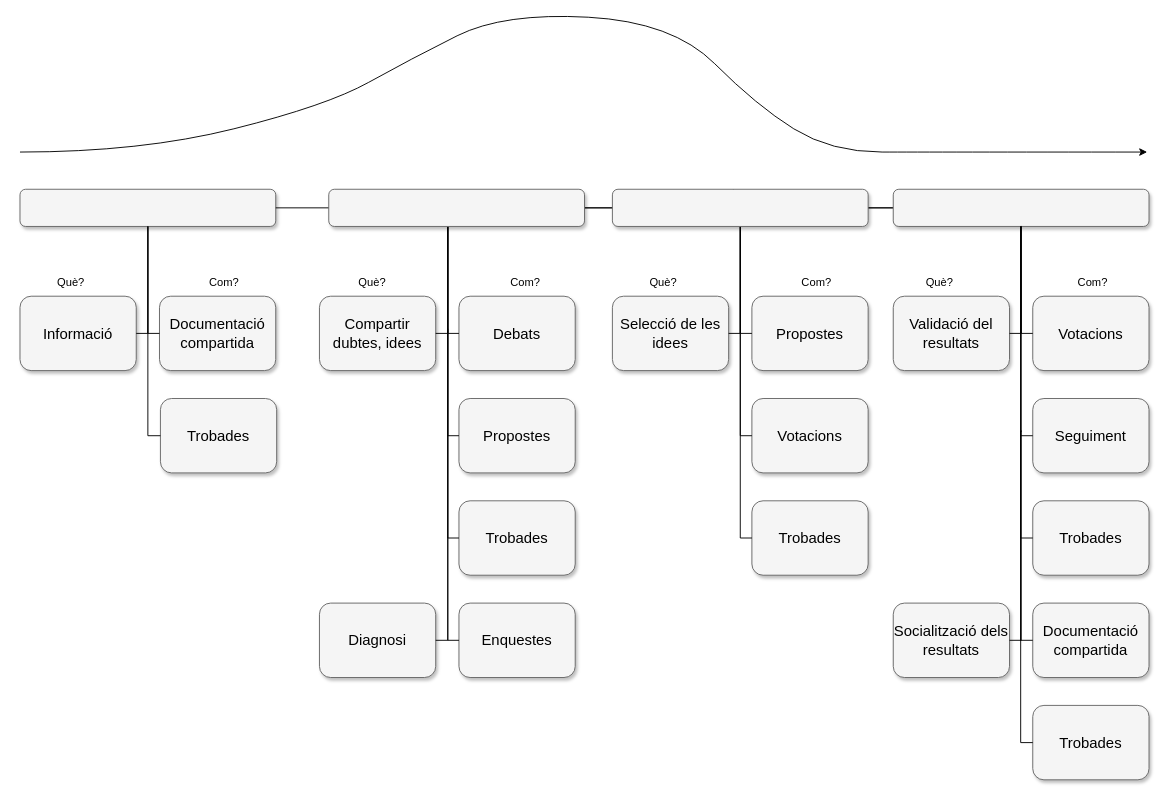
This 1171x803 diagram has some shape labels left out. Each missing label, with the centre of its shape:
Moment d'obertura: point (457, 209)
Moment de concreció: point (741, 209)
Moment de tancament: point (1022, 209)
Moment inical: point (148, 209)
